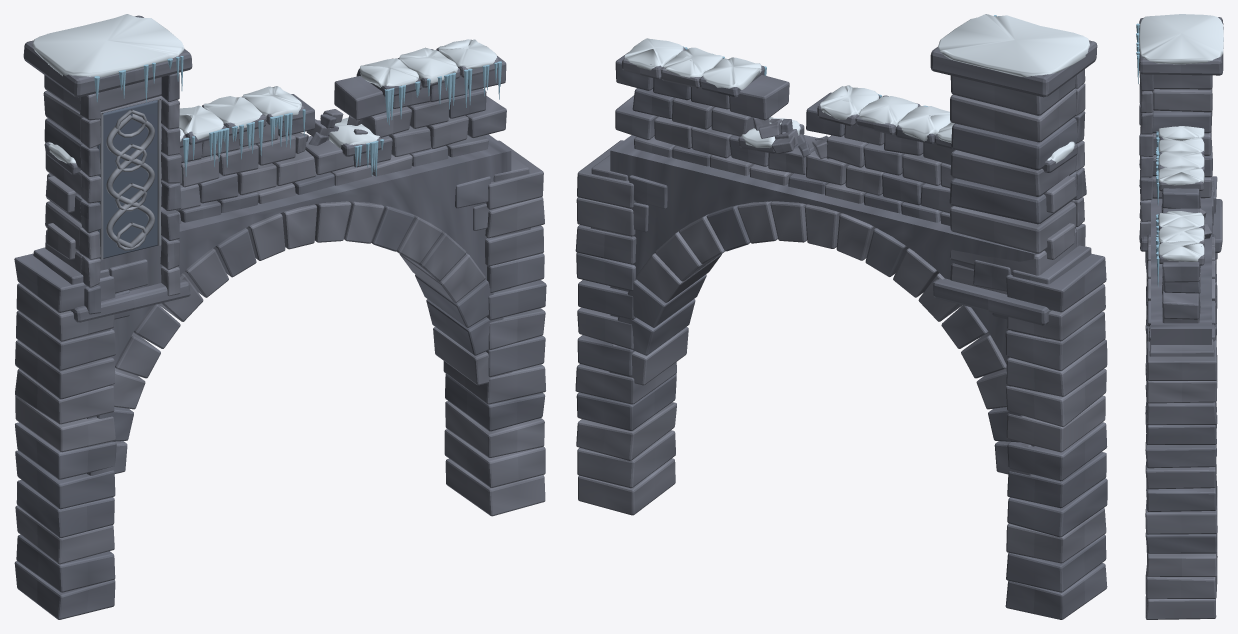
File: bridge-wall-study.glb
3 renders of one model, left to right at view 1: azimuth 30°, elevation 25°; view 2: azimuth 150°, elevation 25°; view 3: azimuth 270°, elevation 25°, orthographic. The views are drawn at different scales.
Visible parts, largest first — view 1: batched_violet_slate_01, batched_violet_slate_06, batched_violet_slate_05, batched_violet_slate_00, batched_violet_slate_03, batched_cold_snow, batched_violet_slate_04, batched_violet_slate_02, batched_violet_slate_07, batched_carved_recess, batched_worn_carving_edges, batched_opaque_glacial_ice; view 2: batched_violet_slate_01, batched_violet_slate_06, batched_violet_slate_05, batched_violet_slate_00, batched_violet_slate_03, batched_cold_snow, batched_violet_slate_04, batched_violet_slate_02, batched_violet_slate_07; view 3: batched_violet_slate_01, batched_cold_snow, batched_violet_slate_06, batched_violet_slate_03, batched_violet_slate_04, batched_violet_slate_00, batched_violet_slate_02, batched_violet_slate_05, batched_opaque_glacial_ice, batched_violet_slate_07.
Part boxes in pixels (left/top/right/bottom): batched_violet_slate_01: left=14, top=73, right=546, bottom=619; batched_violet_slate_06: left=43, top=39, right=545, bottom=516; batched_violet_slate_05: left=15, top=99, right=545, bottom=564; batched_violet_slate_00: left=15, top=58, right=545, bottom=592; batched_violet_slate_03: left=16, top=15, right=545, bottom=475; batched_cold_snow: left=32, top=14, right=497, bottom=163; batched_violet_slate_04: left=15, top=92, right=545, bottom=404; batched_violet_slate_02: left=14, top=56, right=506, bottom=322; batched_violet_slate_07: left=15, top=122, right=412, bottom=452; batched_carved_recess: left=97, top=100, right=157, bottom=258; batched_worn_carving_edges: left=100, top=98, right=160, bottom=259; batched_opaque_glacial_ice: left=94, top=56, right=501, bottom=176; batched_violet_slate_01: left=576, top=119, right=1107, bottom=619; batched_violet_slate_06: left=576, top=47, right=1085, bottom=515; batched_violet_slate_05: left=577, top=97, right=1106, bottom=563; batched_violet_slate_00: left=576, top=65, right=1107, bottom=592; batched_violet_slate_03: left=575, top=40, right=1105, bottom=475; batched_cold_snow: left=624, top=14, right=1089, bottom=163; batched_violet_slate_04: left=575, top=69, right=1107, bottom=404; batched_violet_slate_02: left=615, top=52, right=1106, bottom=325; batched_violet_slate_07: left=710, top=119, right=1105, bottom=452; batched_violet_slate_01: left=1139, top=72, right=1217, bottom=511; batched_cold_snow: left=1139, top=14, right=1223, bottom=261; batched_violet_slate_06: left=1139, top=89, right=1217, bottom=619; batched_violet_slate_03: left=1139, top=17, right=1223, bottom=489; batched_violet_slate_04: left=1139, top=104, right=1217, bottom=534; batched_violet_slate_00: left=1140, top=93, right=1217, bottom=553; batched_violet_slate_02: left=1139, top=82, right=1222, bottom=282; batched_violet_slate_05: left=1145, top=176, right=1217, bottom=598; batched_opaque_glacial_ice: left=1136, top=23, right=1159, bottom=286; batched_violet_slate_07: left=1139, top=205, right=1217, bottom=325.
Size of the model in its own units: 6.25 by 6.71 by 1.24.
